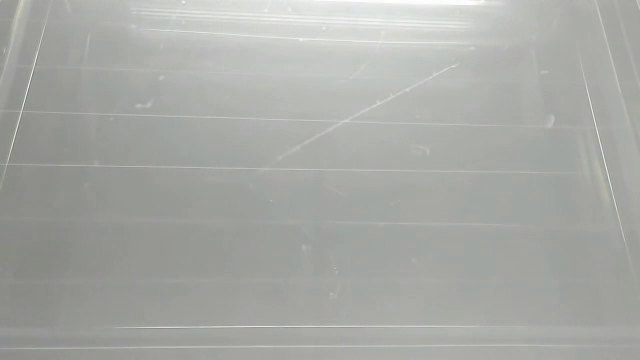alpha: (540, 110, 561, 132)
